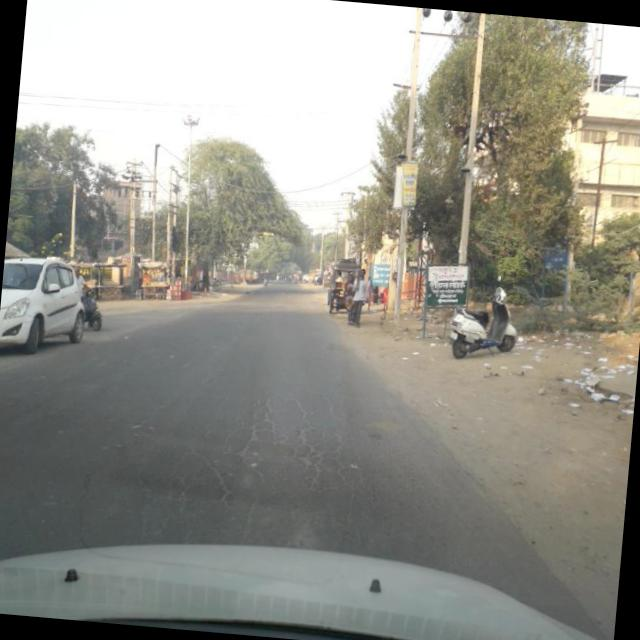crack: (154, 371, 360, 527)
